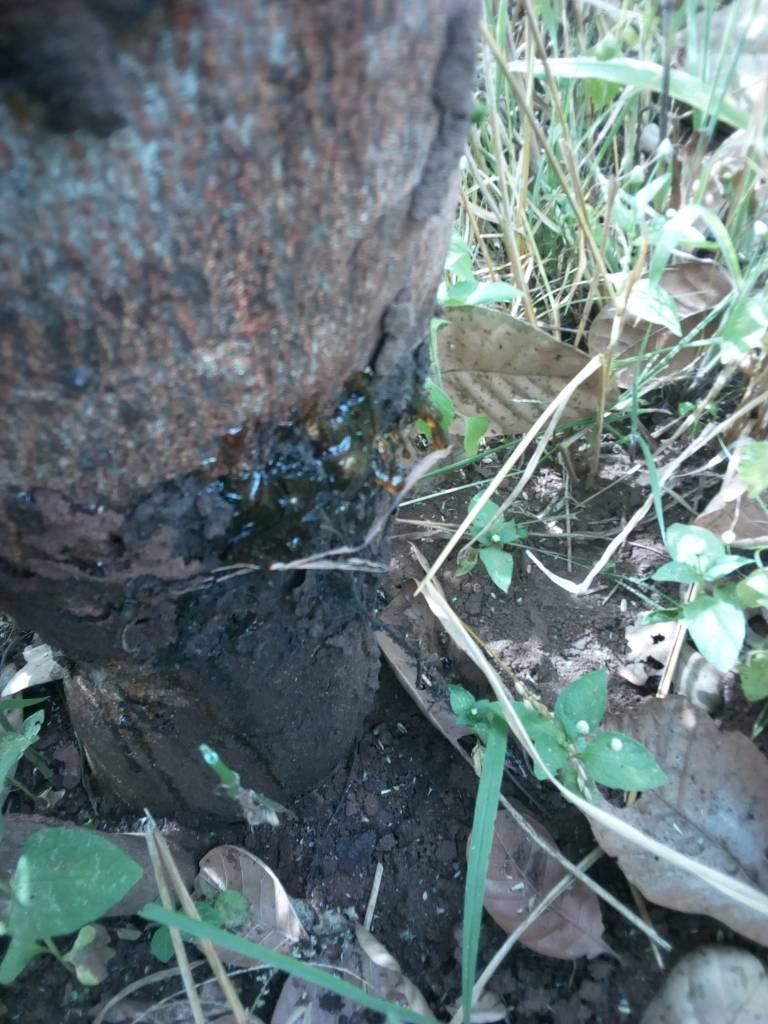Gommose: (143, 375, 399, 678)
